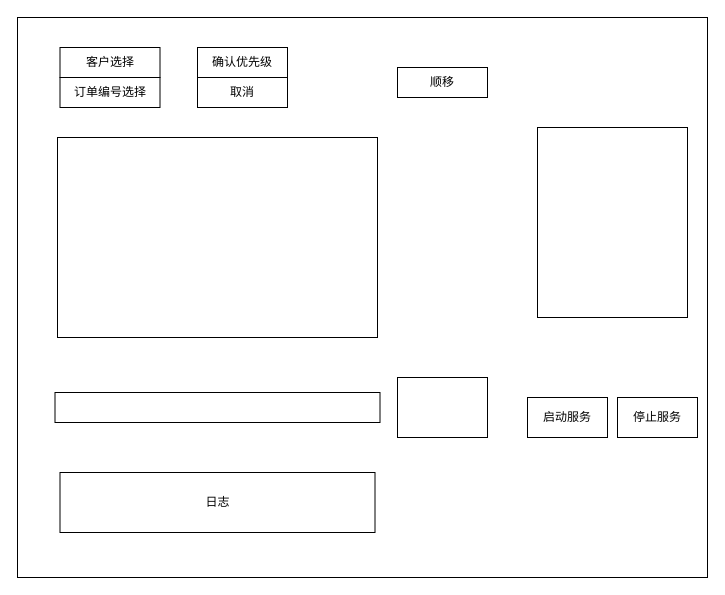
This 725x595 diagram has some shape labels left out. The shapes that lost their labels are listed below. From the top down, each one's box as (x1, y1, x2, y2) in pixels, then its label:
(56, 136, 378, 338): 列表
(536, 126, 688, 318): 出笼顺序
(54, 392, 380, 422): 详细信息
(396, 376, 488, 438): 参数设置
